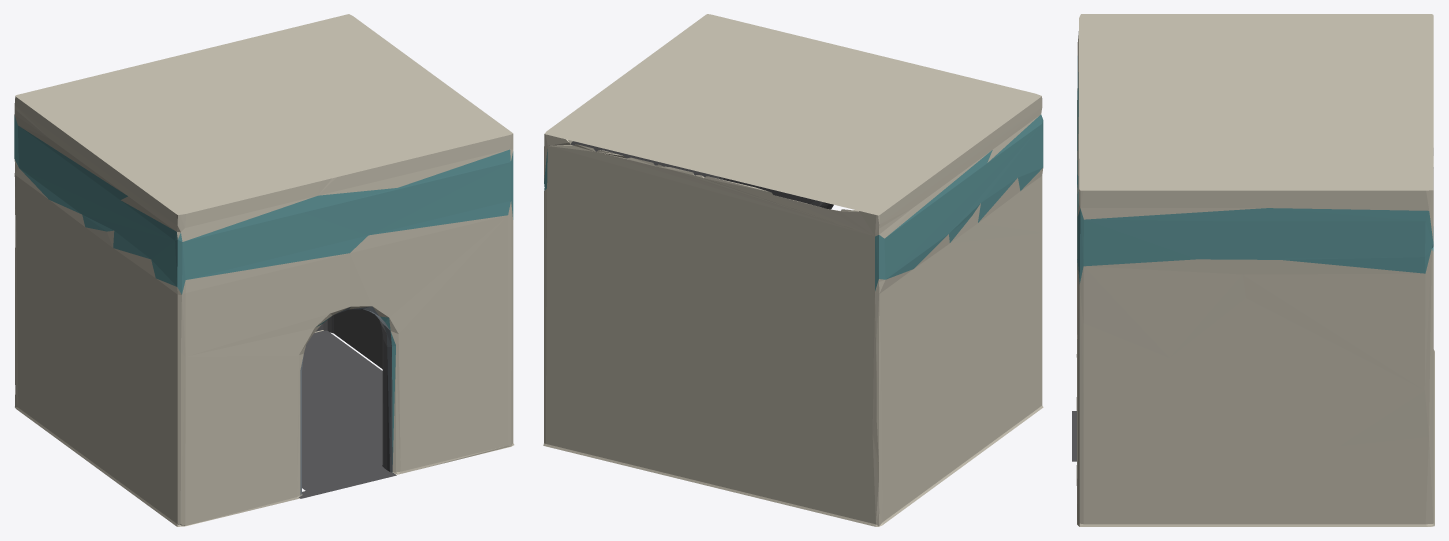
File: etape-1.glb
The picture shows the model from 3 angles, left to right: view 1: azimuth 30°, elevation 25°; view 2: azimuth 150°, elevation 25°; view 3: azimuth 270°, elevation 25°; orthographic projection. The views are drawn at different scales.
Visible parts, largest first — view 1: geometry_0; view 2: geometry_0; view 3: geometry_0.
Boxes of the visible parts, x1,y1,x2,y2 form: geometry_0: (14, 14, 514, 526); geometry_0: (543, 14, 1043, 526); geometry_0: (1072, 14, 1434, 526).
Size of the model in its own units: 0.68 by 0.5995 by 0.5867.
